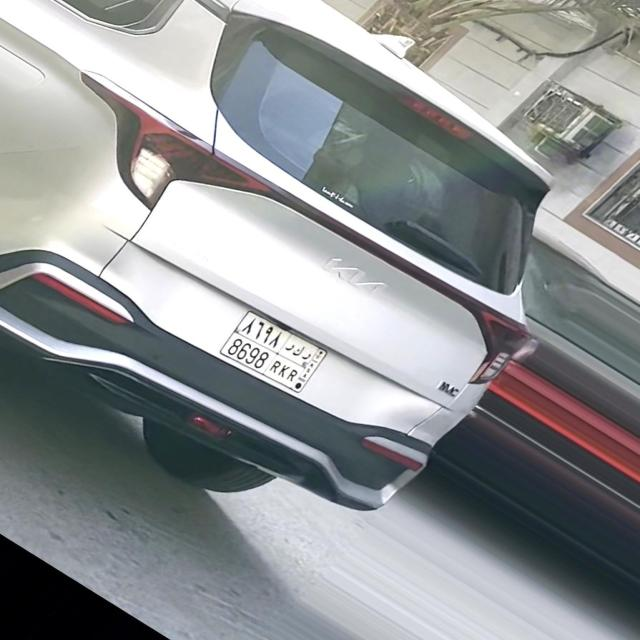Car-plate: (201, 299, 350, 399)
